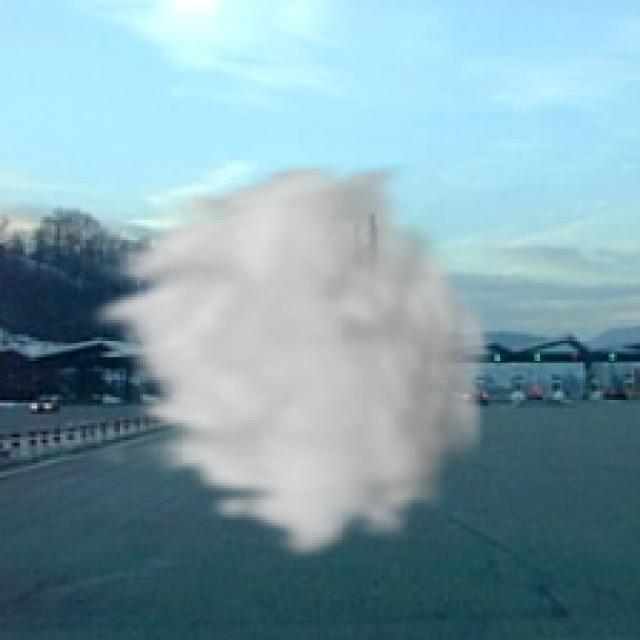Smoke: (77, 160, 500, 563)
